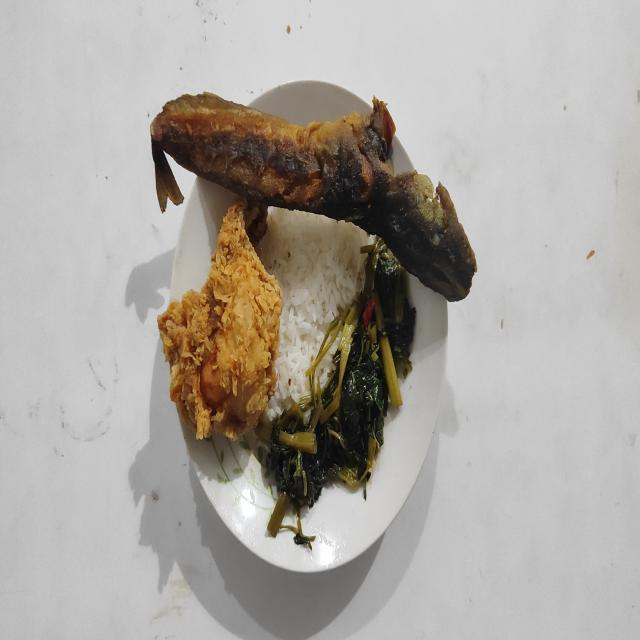nasi_putih: (258, 208, 374, 420)
tumis_kangkung: (256, 237, 417, 544)
